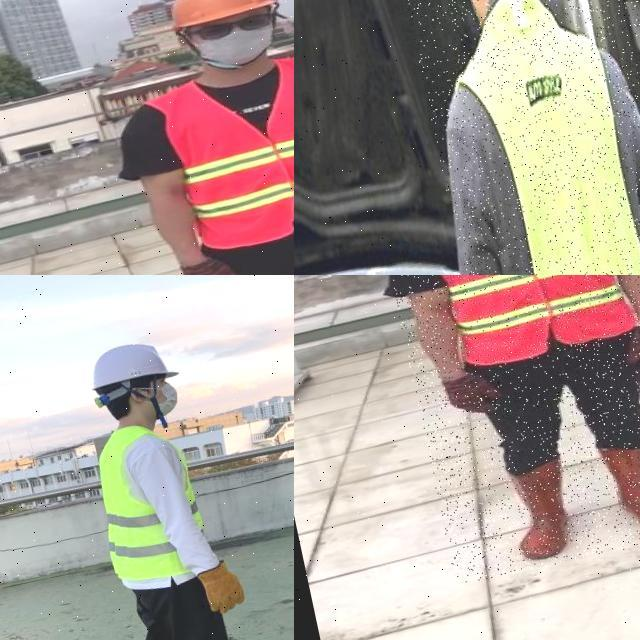boots: (500, 458, 580, 562), (601, 433, 640, 539)
helmet: (84, 334, 181, 394), (160, 0, 277, 32)
vest: (434, 0, 640, 275), (152, 50, 294, 256), (84, 415, 212, 588), (416, 275, 638, 373)
